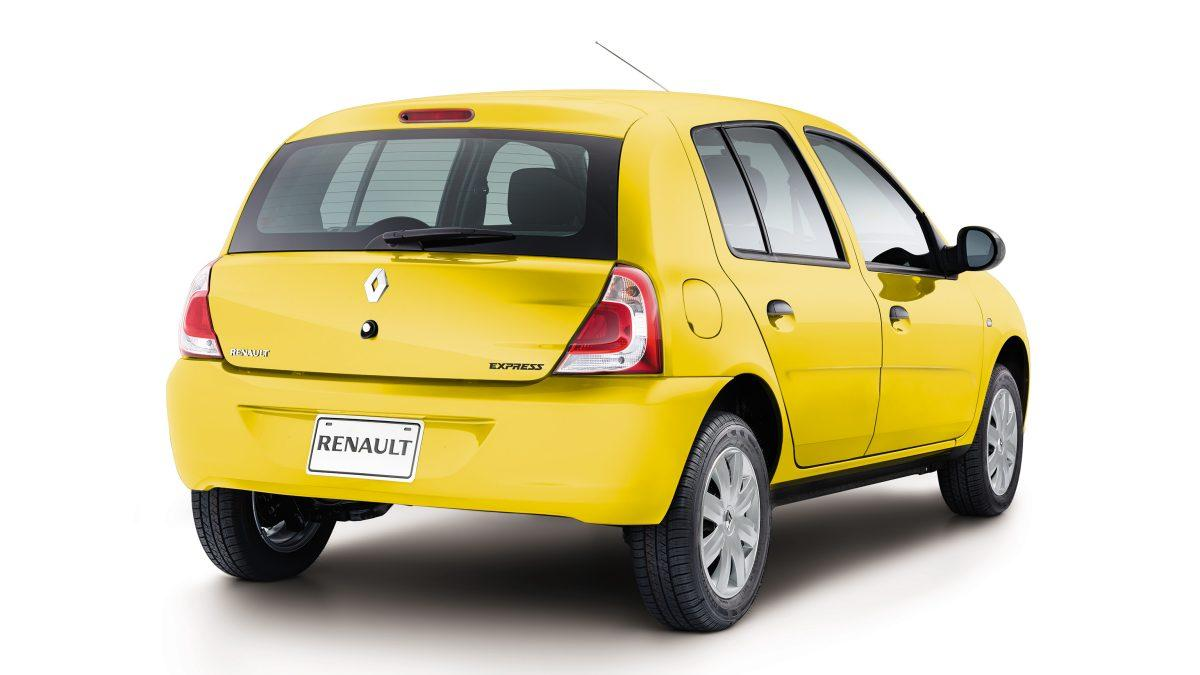taxi: (146, 67, 1074, 599)
